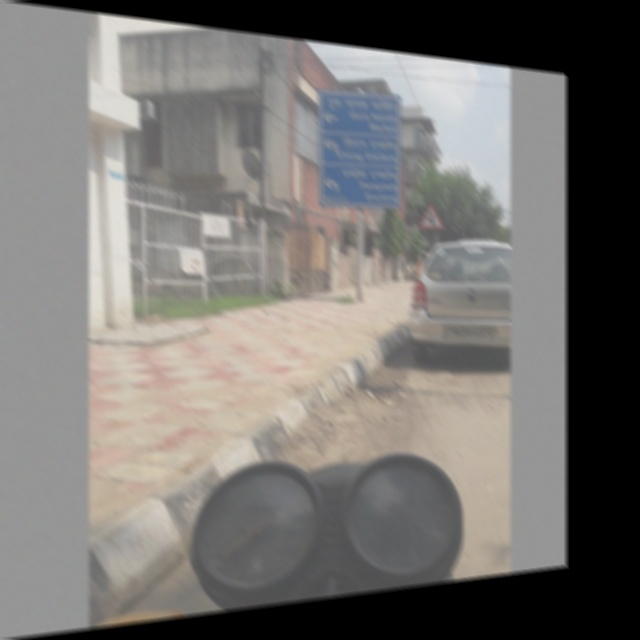Side_Road_Left: (415, 197, 445, 232)
